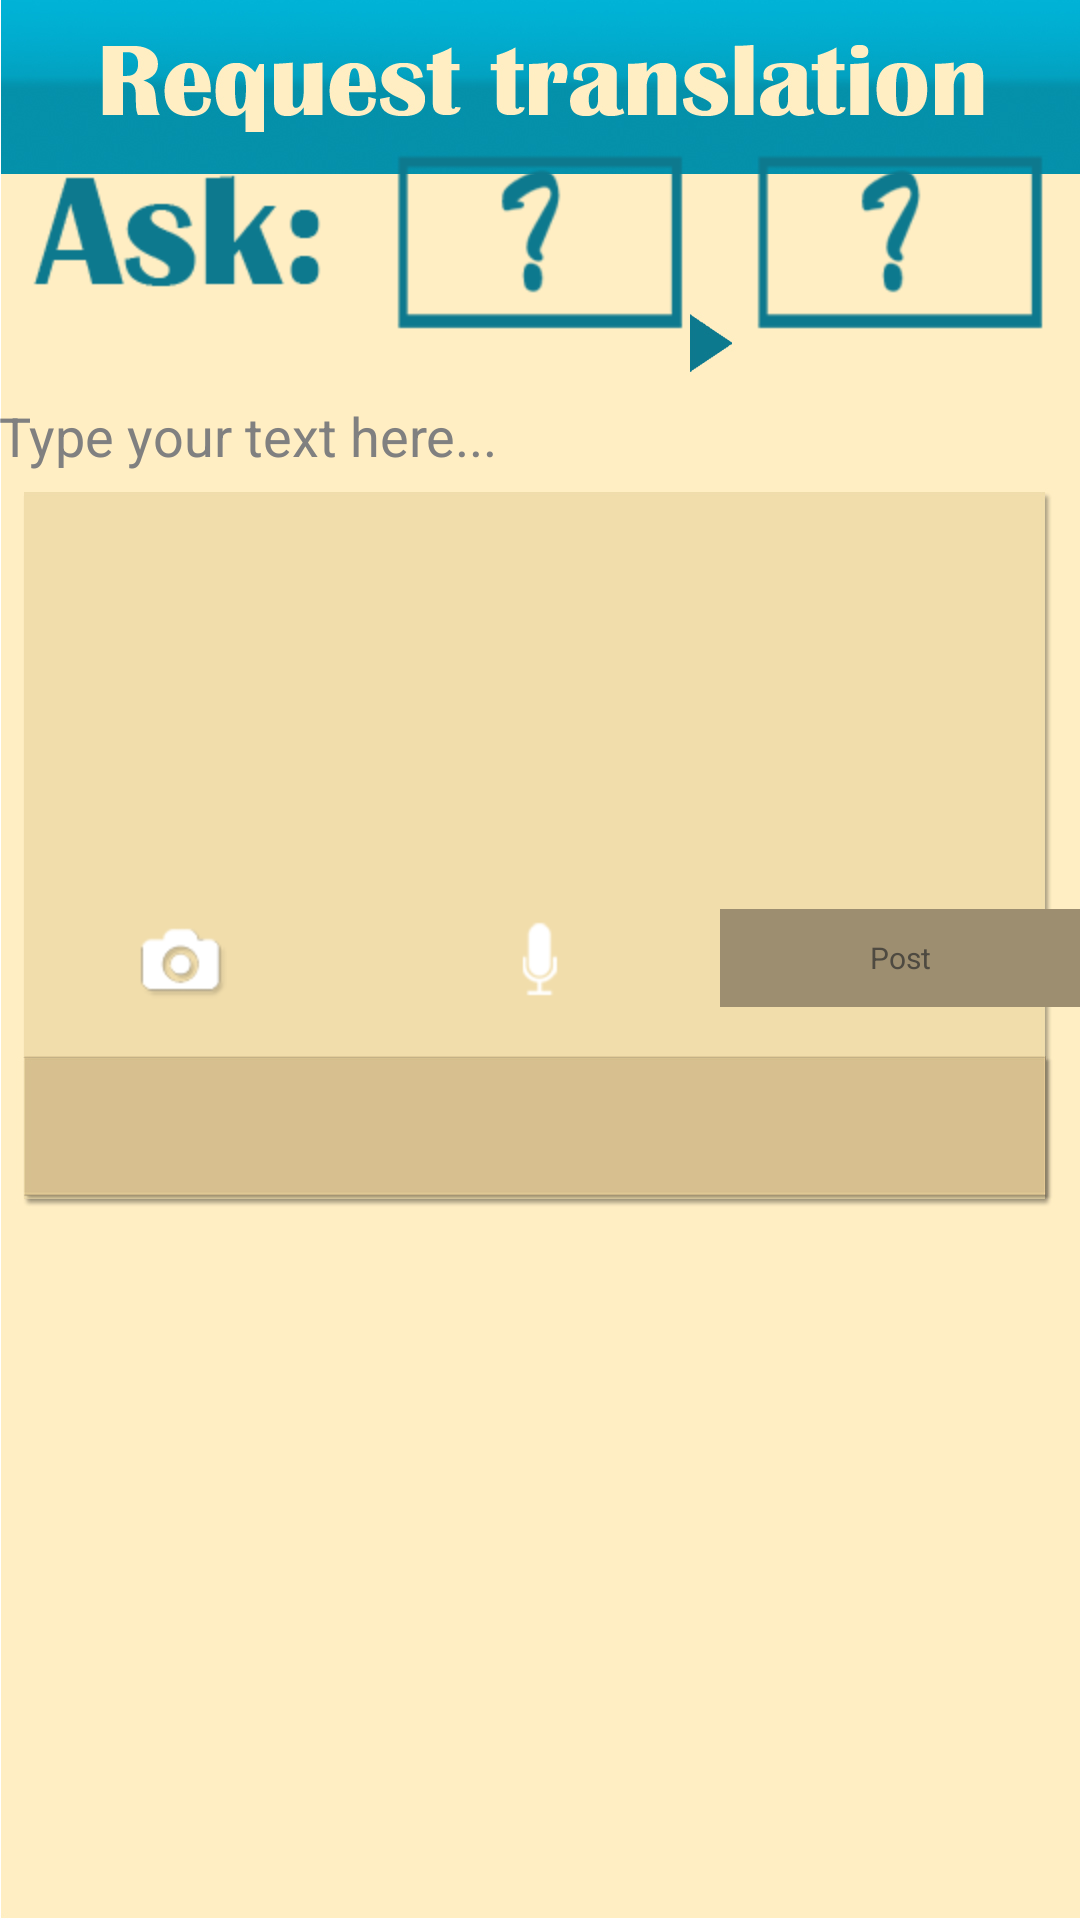

Named icons in this screenshot (1080px×1920px) and their centers, [x,y]:
cam: [181,961]
microphone: [540,959]
upitnik: [539,237], [899,237]
